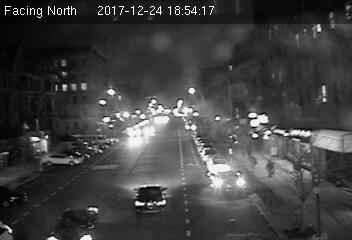car: (44, 204, 98, 240), (131, 184, 170, 216), (209, 172, 246, 195), (206, 155, 228, 171)
